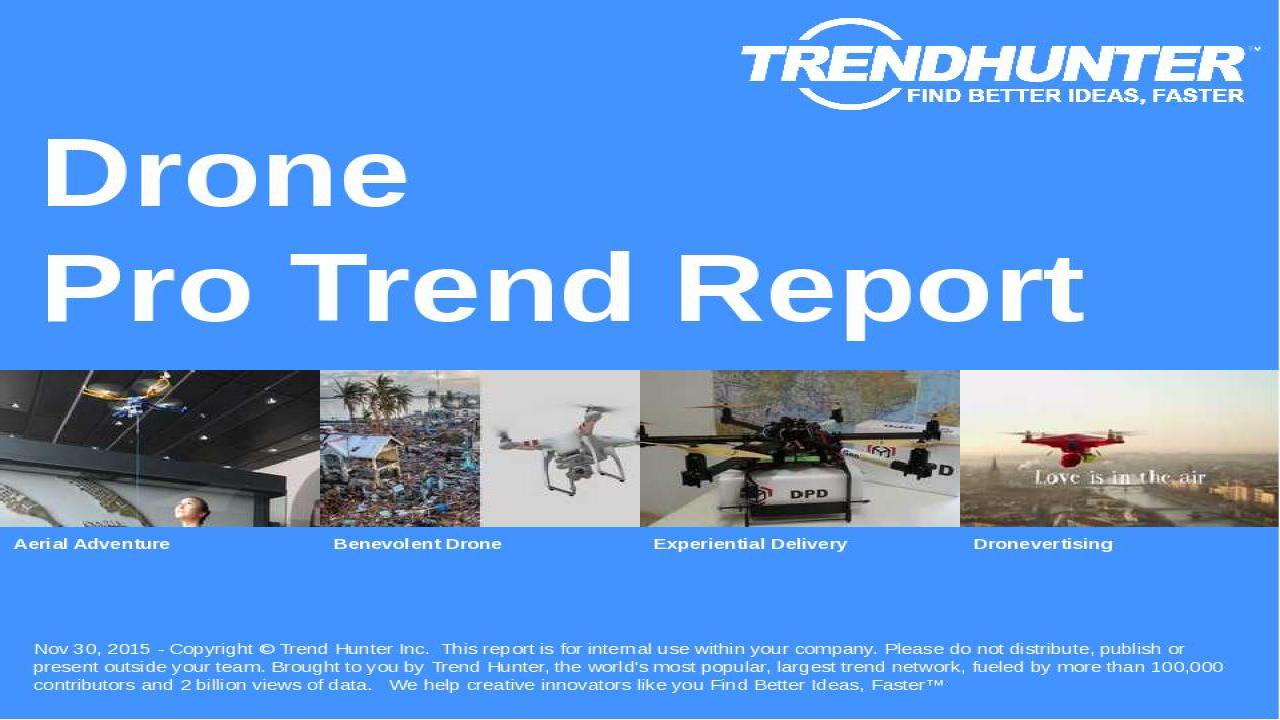Drone: (614, 378, 951, 500), (483, 395, 645, 502), (992, 417, 1141, 480), (70, 370, 202, 436)
